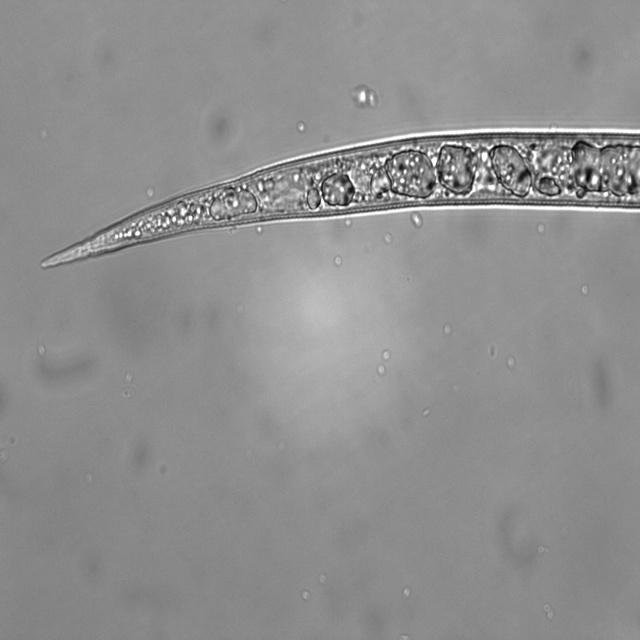Meloidogyne: (32, 113, 640, 272)
